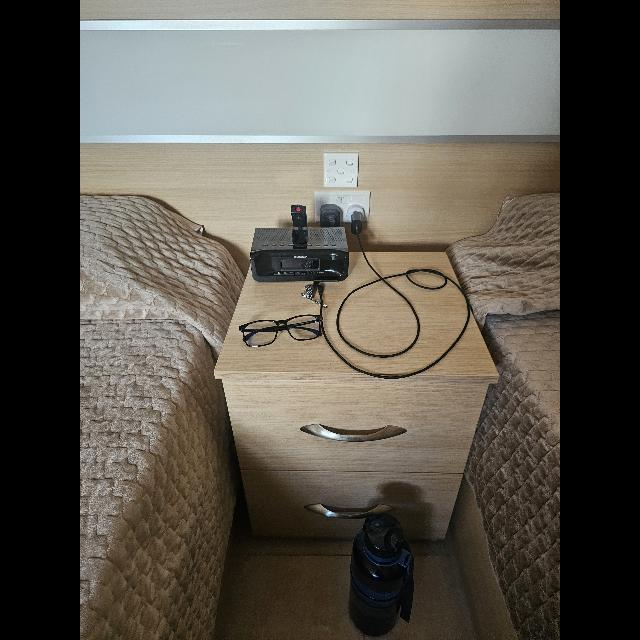glasses: (238, 315, 322, 347)
